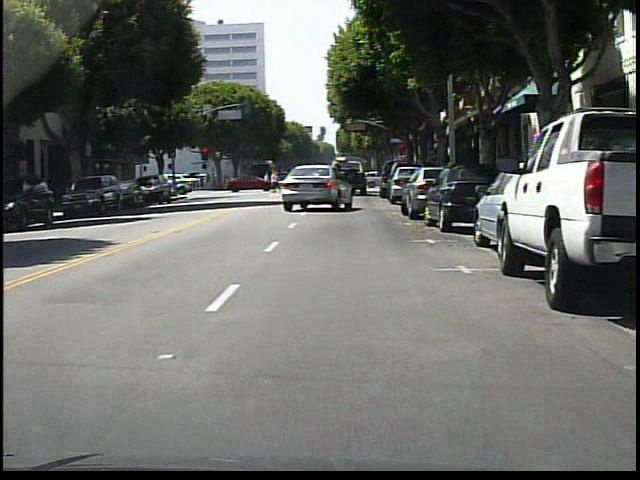person: (291, 167, 302, 193), (270, 170, 281, 194), (267, 172, 268, 189)
